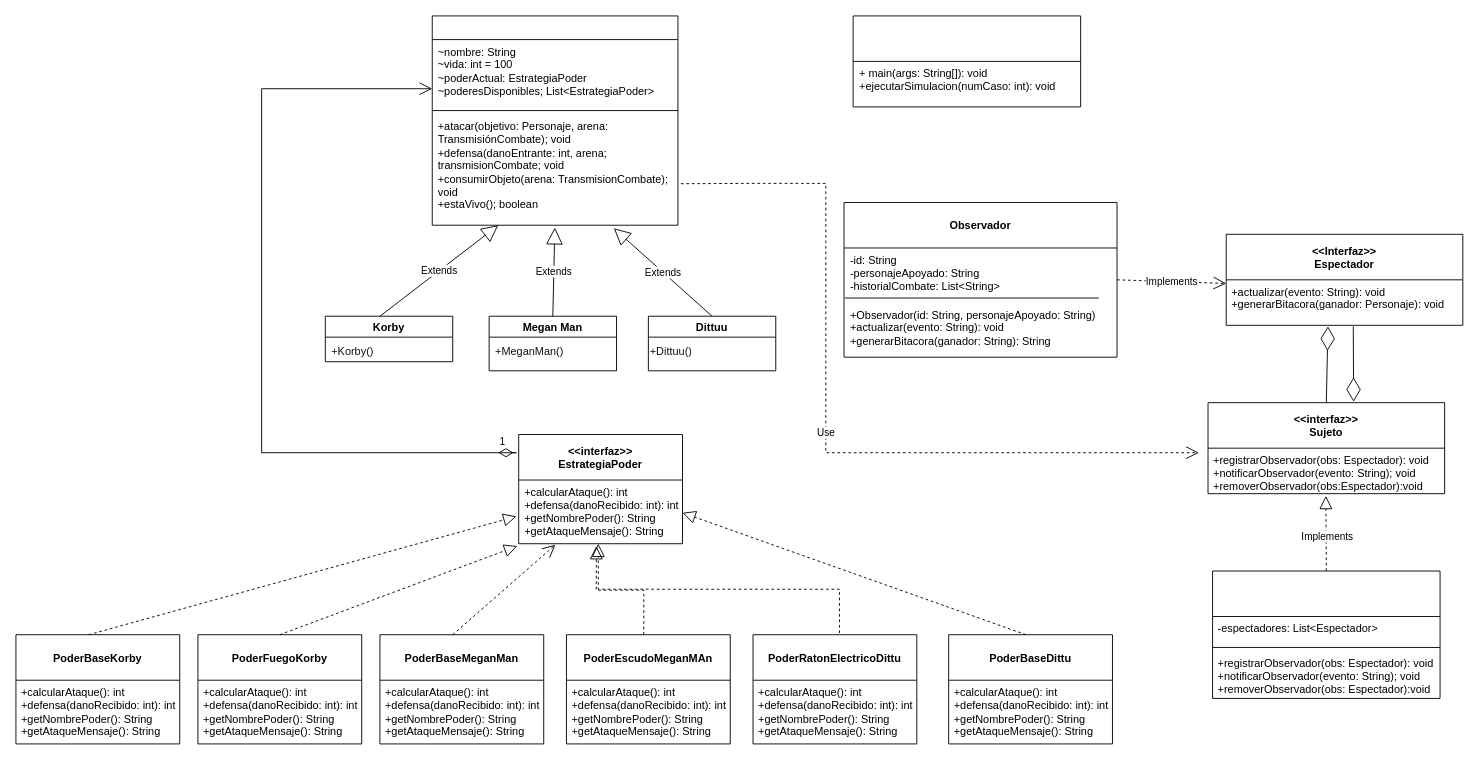
The diagram is 1479 pixels wide and 764 high, and some of its shapes have lost their labels. Here are the shapes that lost their labels. From the top down, the box of each, then its label:
(852, 15, 1081, 107): SimuladorBatalla
(431, 15, 678, 225): Personaje (abstracta)
(1212, 570, 1440, 698): Combate
